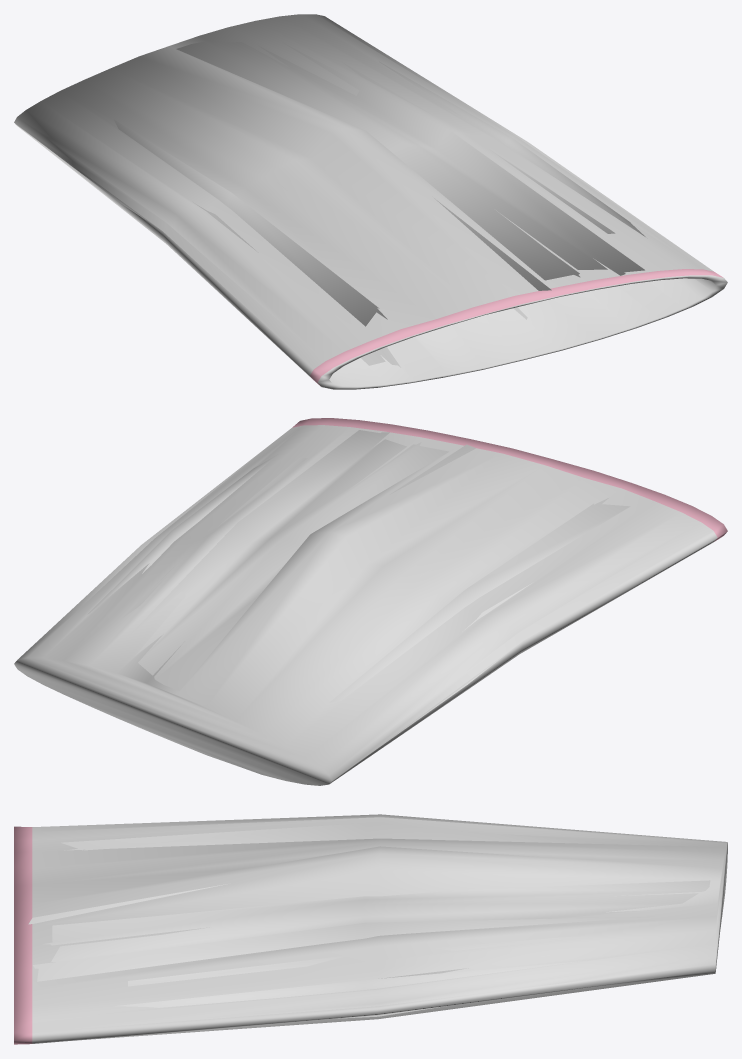
The model's file is cupUnisten3.fbx.
The picture shows the model from 3 angles, top to bottom: view 1: azimuth 30°, elevation 25°; view 2: azimuth 150°, elevation 25°; view 3: azimuth 270°, elevation 25°; orthographic projection. The views are drawn at different scales.
Visible parts, largest first — view 1: Cup.002; view 2: Cup.002; view 3: Cup.002.
Part boxes in pixels (<box>): Cup.002: <box>14,14,727,389</box>; Cup.002: <box>14,418,727,785</box>; Cup.002: <box>14,814,727,1044</box>.
Size of the model in its own units: 151 by 36.89 by 216.
